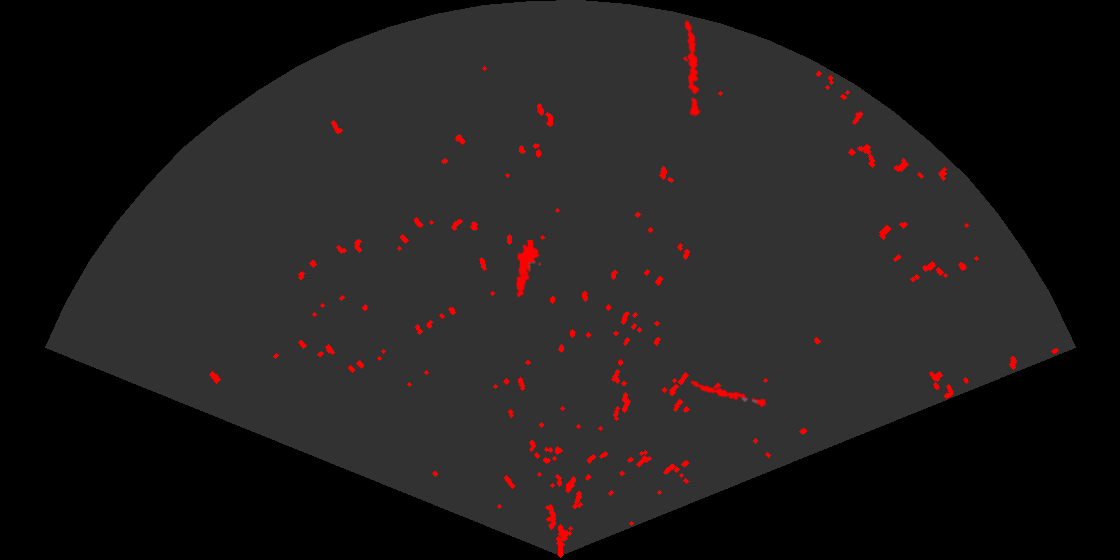chain: (689, 379, 768, 409), (683, 19, 703, 117)
frogman: (515, 240, 543, 299)
